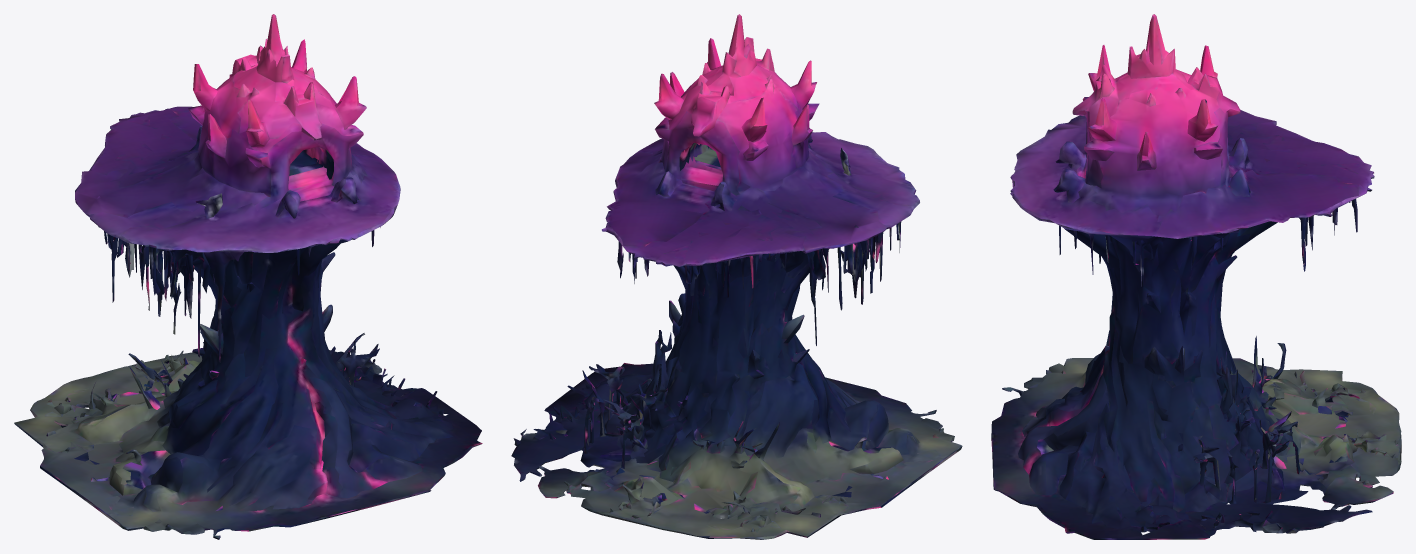
File: support-column-generated-2026-05-17T19-04-08-179Z.low.glb
3 renders of one model, left to right at view 1: azimuth 30°, elevation 25°; view 2: azimuth 150°, elevation 25°; view 3: azimuth 270°, elevation 25°, orthographic. The views are drawn at different scales.
Visible parts, largest first — view 1: temp_mesh.ply; view 2: temp_mesh.ply; view 3: temp_mesh.ply.
Part boxes in pixels (box(x1,y1,x2,y2)): temp_mesh.ply: box(14, 14, 482, 539); temp_mesh.ply: box(511, 14, 962, 539); temp_mesh.ply: box(991, 14, 1401, 539).
Bounding box in the file's own units: 1.74 × 1.97 × 1.67.
1 material, 1 textured.
